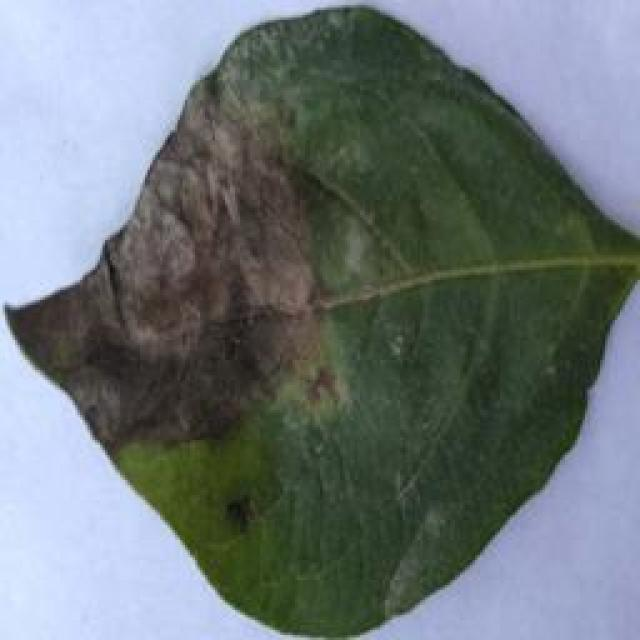Potato_Late_Blight: (4, 6, 631, 627)
